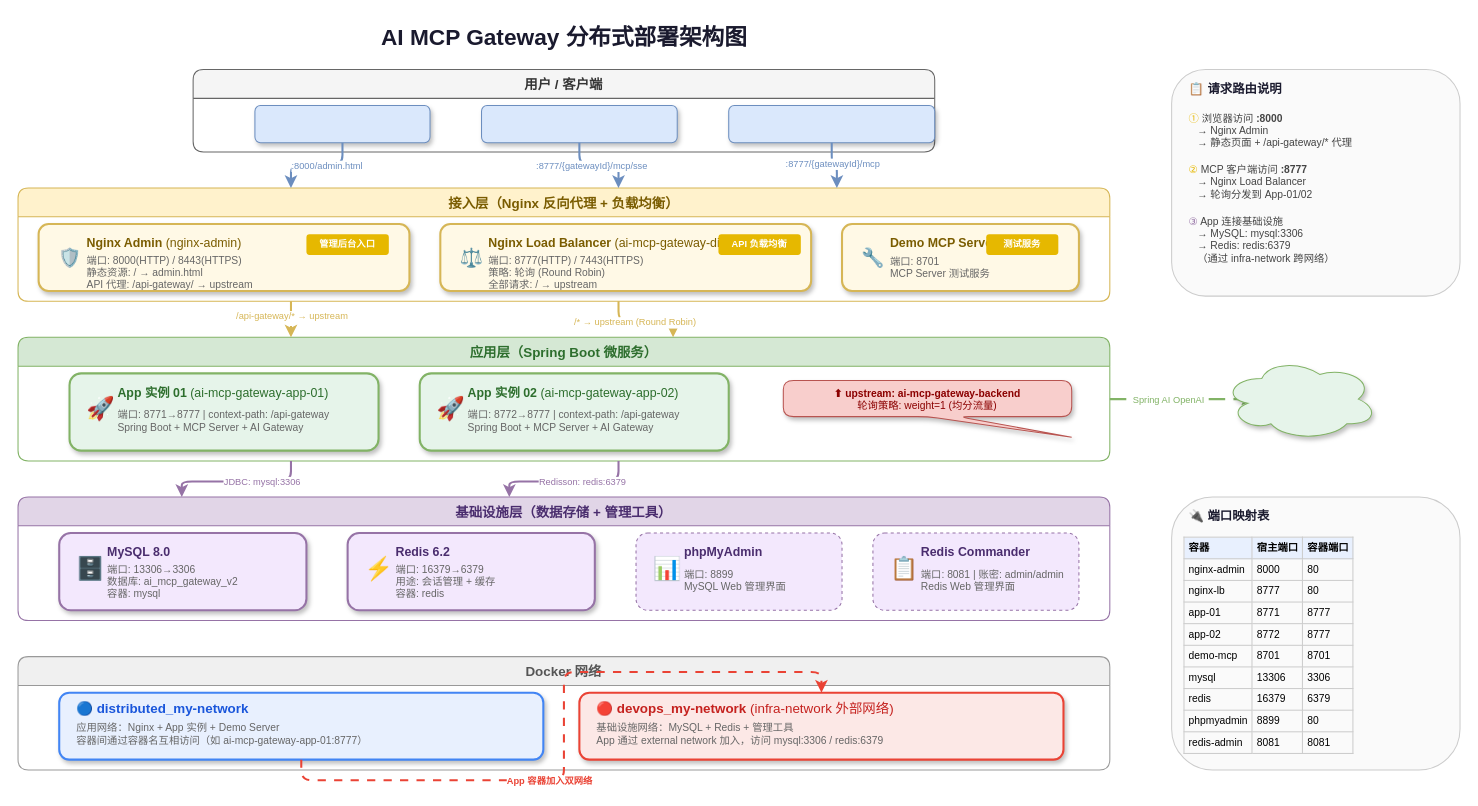
This 1478x806 diagram has some shape labels left out. Here are the shapes that lost their labels. From the top down, the centre of each, then its label:
the point at 343,125: 🖥️ 浏览器（管理后台）
the point at 579,125: 🔗 API 客户端（MCP/SSE）
the point at 832,125: 🤖 LLM 应用（Cursor/Cline）
the point at 1301,400: ☁️ OpenAI API gpt-4o apis.itedus.cn
